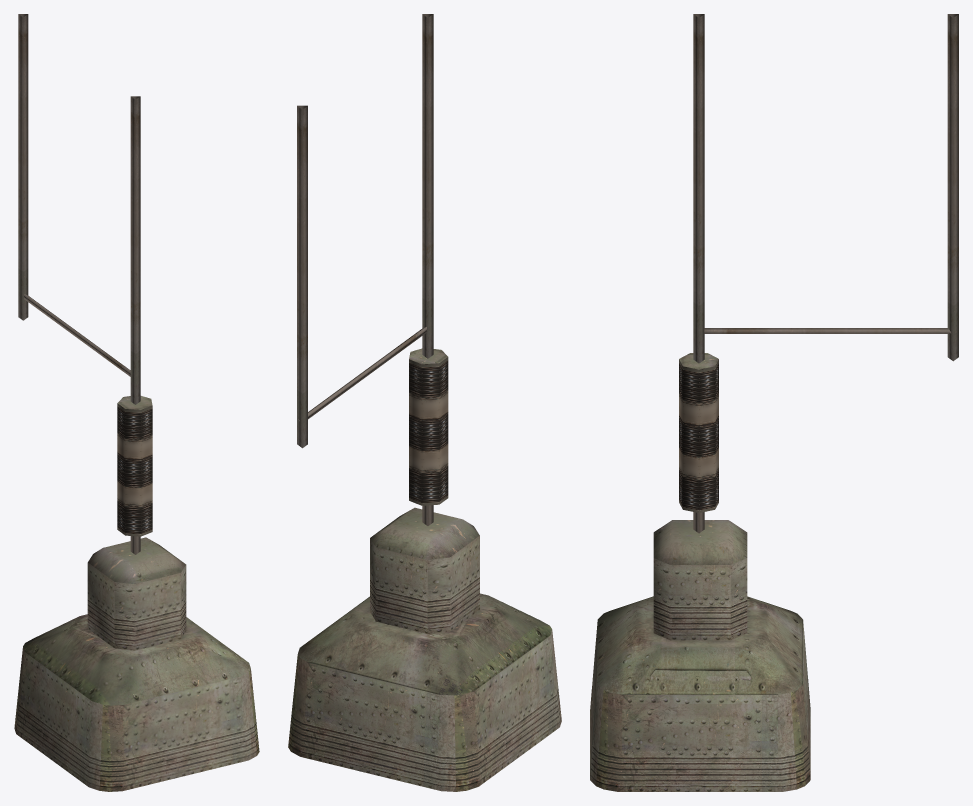
Rendered from LIT_CeilingLamp_A.FBX.
3 renders of one model, left to right at view 1: azimuth 30°, elevation 25°; view 2: azimuth 150°, elevation 25°; view 3: azimuth 270°, elevation 25°, orthographic. The views are drawn at different scales.
Parts seen in each view (by area): view 1: LIT_CeilingLamp_A; view 2: LIT_CeilingLamp_A; view 3: LIT_CeilingLamp_A.
Part boxes in pixels (x1,y1,x2,y2): LIT_CeilingLamp_A: (14,14,259,791); LIT_CeilingLamp_A: (288,14,561,791); LIT_CeilingLamp_A: (590,14,958,791).
Size of the model in its own units: 74.7 by 272 by 125.
Materials: 1 (1 with a texture image).
